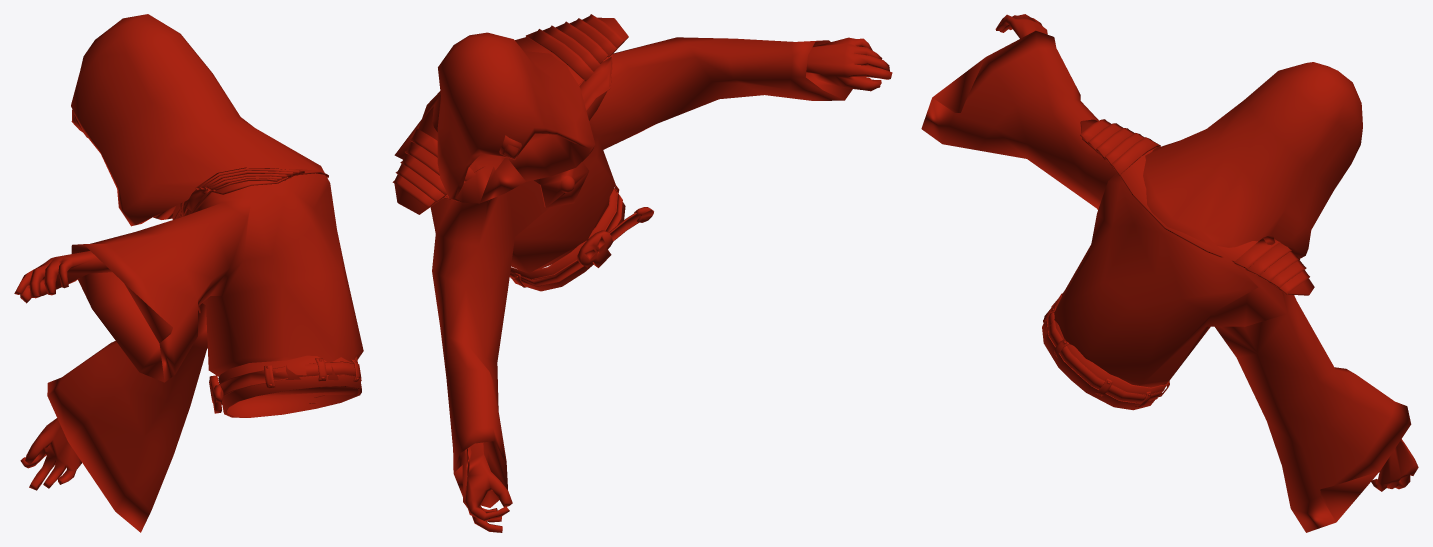
The model's file is top_000069.obj.
3 renders of one model, left to right at view 1: azimuth 30°, elevation 25°; view 2: azimuth 150°, elevation 25°; view 3: azimuth 270°, elevation 25°, orthographic. The views are drawn at different scales.
Parts seen in each view (by area): view 1: LowPoly_Warlock.000_Plane.005; view 2: LowPoly_Warlock.000_Plane.005; view 3: LowPoly_Warlock.000_Plane.005.
Part boxes in pixels (x1,y1,x2,y2): LowPoly_Warlock.000_Plane.005: (14, 14, 363, 532); LowPoly_Warlock.000_Plane.005: (392, 14, 892, 532); LowPoly_Warlock.000_Plane.005: (921, 14, 1418, 532).
Size of the model in its own units: 1.2 by 1.43 by 1.37.
